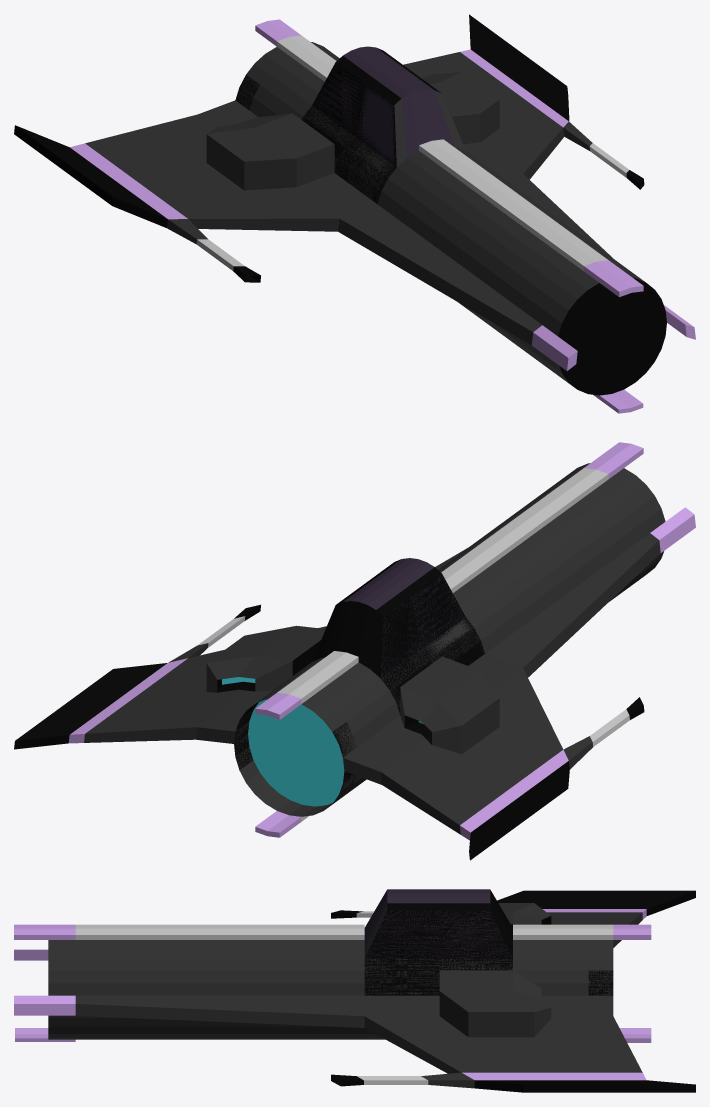
File: spaceship-drill.fbx
3 renders of one model, top to bottom at view 1: azimuth 30°, elevation 25°; view 2: azimuth 150°, elevation 25°; view 3: azimuth 270°, elevation 25°, orthographic. The views are drawn at different scales.
Visible parts, largest first — view 1: Cube; view 2: Cube; view 3: Cube.
Boxes of the visible parts, x1,y1,x2,y2 form: Cube: [14, 14, 695, 413]; Cube: [14, 442, 695, 860]; Cube: [14, 889, 695, 1092].
Size of the model in its own units: 826 by 289 by 1222.
